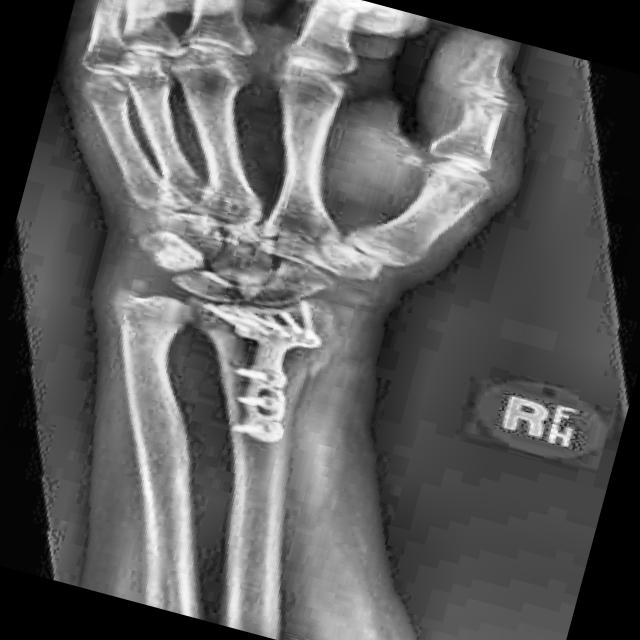wrist positive: (260, 311, 351, 405)
